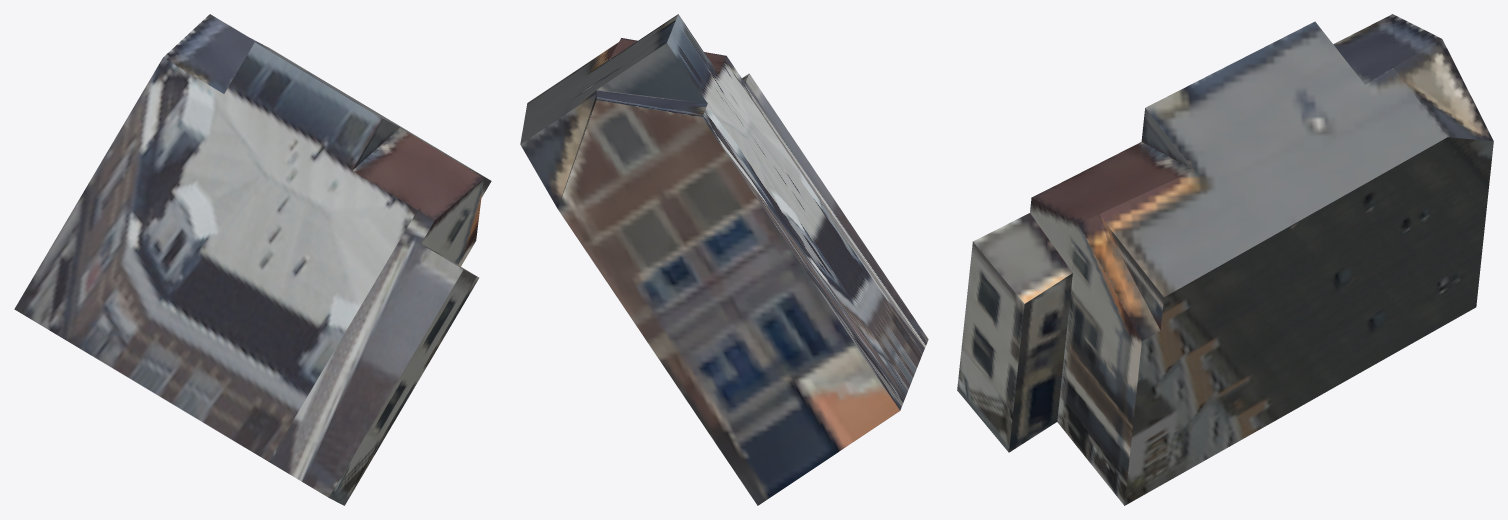
3 views of the same model, side by side, from view 1: azimuth 30°, elevation 25°; view 2: azimuth 150°, elevation 25°; view 3: azimuth 270°, elevation 25° (orthographic). The views are drawn at different scales.
Parts seen in each view (by area): view 1: BAG_0599100000650085 (×4); view 2: BAG_0599100000650085 (×3); view 3: BAG_0599100000650085 (×5).
Part boxes in pixels (x1,y1,x2,y2): BAG_0599100000650085 (×4): (14,14,491,505); BAG_0599100000650085 (×3): (520,14,928,505); BAG_0599100000650085 (×5): (957,14,1493,505).
Bounding box in the file's own units: 14.78 × 14.18 × 14.15.
Materials: 1 (1 with a texture image).
